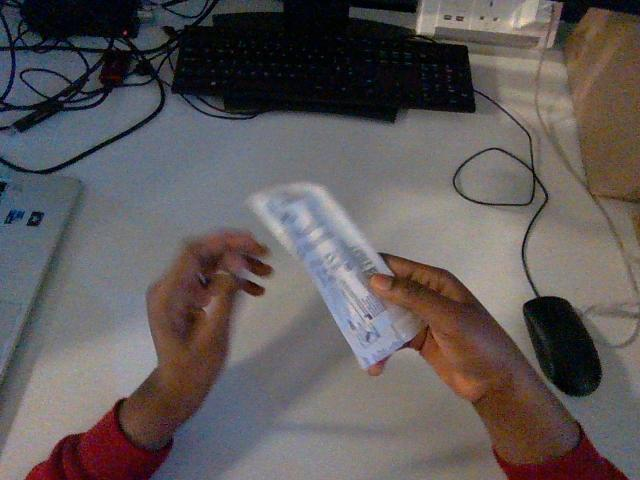syringe: (248, 183, 419, 368)
